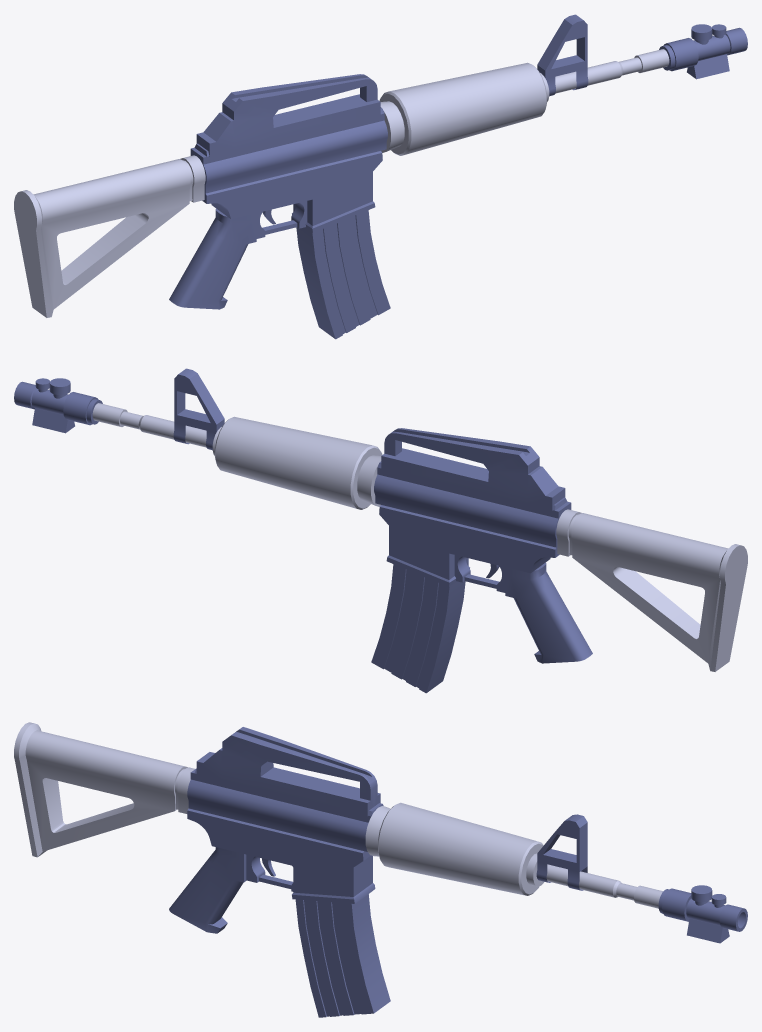
3 renders of one model, top to bottom at view 1: azimuth 30°, elevation 25°; view 2: azimuth 150°, elevation 25°; view 3: azimuth 330°, elevation 25°, orthographic.
Parts seen in each view (by area): view 1: MG6; view 2: MG6; view 3: MG6.
Boxes of the visible parts, x1,y1,x2,y2 form: MG6: (14,14,747,339); MG6: (14,368,747,693); MG6: (14,722,747,1017).
Bounding box in the file's own units: 79.2 × 27.32 × 6.26.
